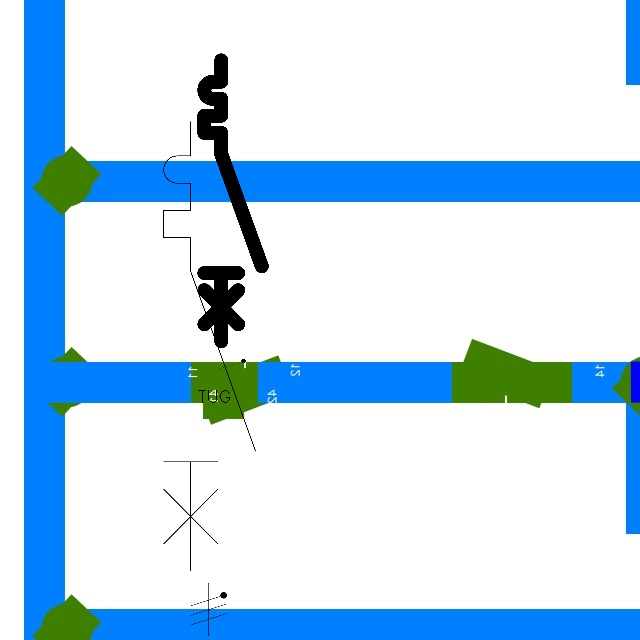interruptor_termomagnetico: (152, 110, 267, 582), (197, 53, 269, 349)
